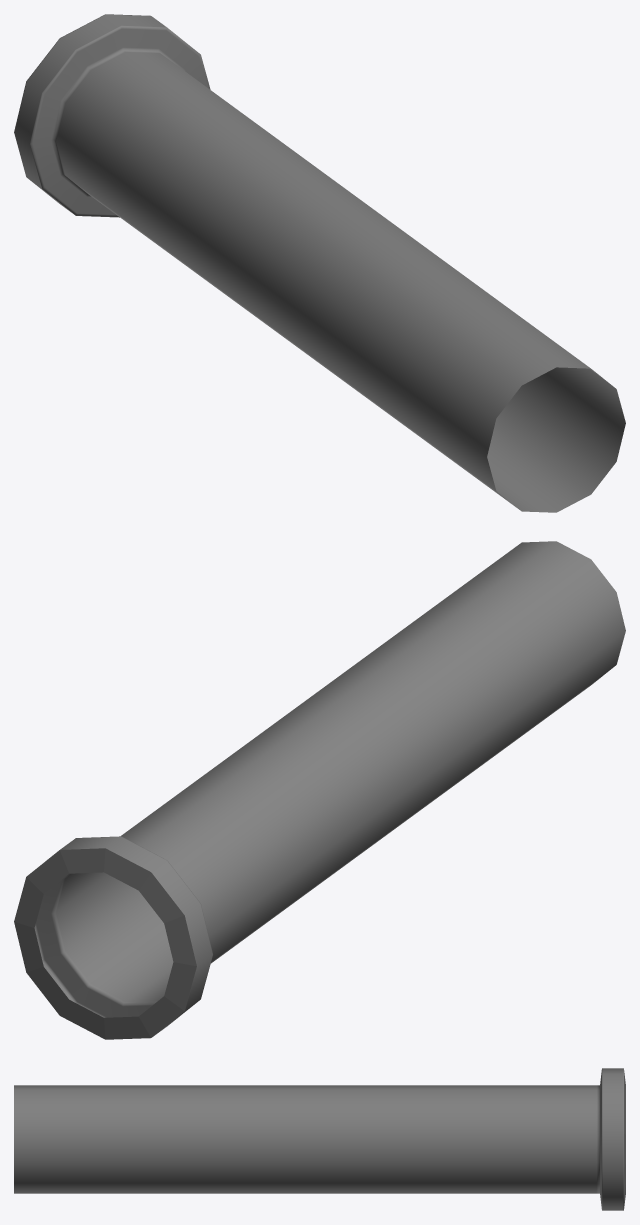
File: Pipe_Segment_long.fbx
3 views of the same model, one above another, from view 1: azimuth 30°, elevation 25°; view 2: azimuth 150°, elevation 25°; view 3: azimuth 270°, elevation 25° (orthographic). The views are drawn at different scales.
Visible parts, largest first — view 1: Pipe_Segment_long; view 2: Pipe_Segment_long; view 3: Pipe_Segment_long.
Part boxes in pixels (x1,y1,x2,y2): Pipe_Segment_long: [14, 14, 625, 512]; Pipe_Segment_long: [14, 541, 625, 1039]; Pipe_Segment_long: [14, 1068, 625, 1210].
Bounding box in the file's own units: 23.2 × 23.2 × 99.36.
